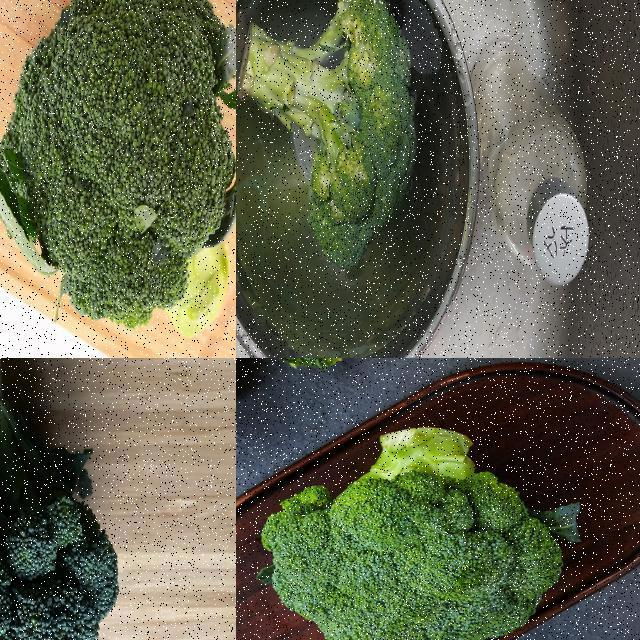broccoli: (0, 0, 235, 343), (261, 426, 569, 639), (237, 0, 421, 280), (0, 358, 127, 639)
